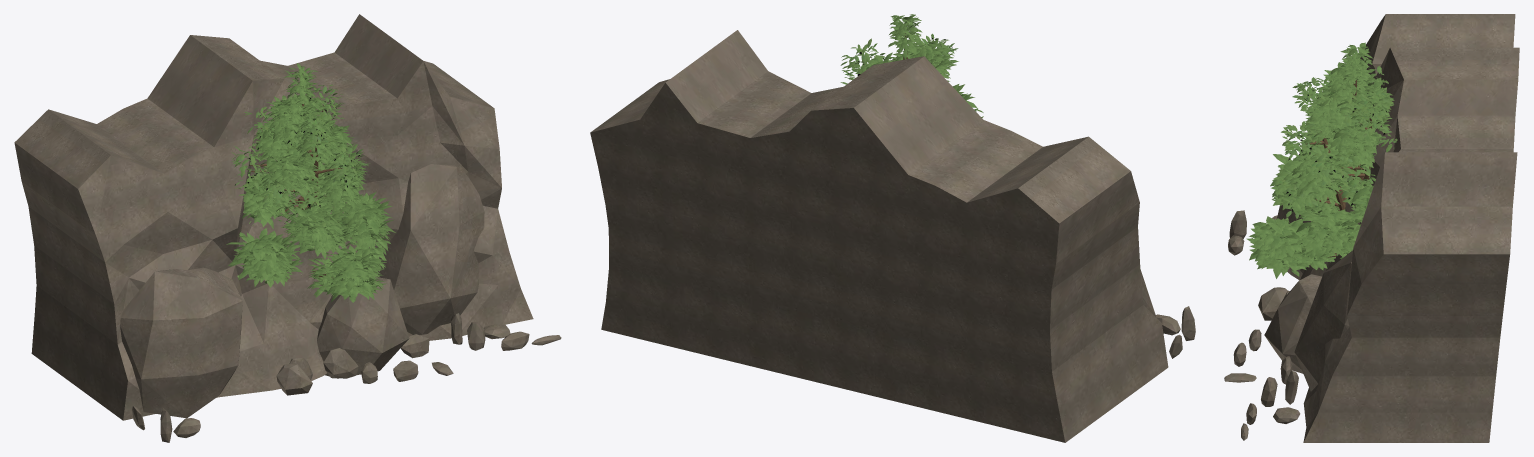
File: ecology-r5.glb
The picture shows the model from 3 angles, left to right: view 1: azimuth 30°, elevation 25°; view 2: azimuth 150°, elevation 25°; view 3: azimuth 270°, elevation 25°; orthographic projection. The views are drawn at different scales.
Parts seen in each view (by area): view 1: cliff-group-0-lod0, tree-1-1-lod0, tree-1-0-lod0, tree-0-1-lod0, tree-0-0-lod0; view 2: cliff-group-0-lod0, tree-1-1-lod0, tree-1-0-lod0, tree-0-1-lod0; view 3: cliff-group-0-lod0, tree-1-1-lod0, tree-1-0-lod0, tree-0-0-lod0, tree-0-1-lod0.
Boxes of the visible parts, x1,y1,x2,y2 form: cliff-group-0-lod0: (14,14,561,442); tree-1-1-lod0: (226,63,395,302); tree-1-0-lod0: (235,76,388,302); tree-0-1-lod0: (230,84,365,248); tree-0-0-lod0: (234,87,370,254); cliff-group-0-lod0: (590,30,1195,442); tree-1-1-lod0: (864,14,977,108); tree-1-0-lod0: (867,23,950,81); tree-0-1-lod0: (842,33,983,117); cliff-group-0-lod0: (1224,14,1519,442); tree-1-1-lod0: (1246,42,1394,272); tree-1-0-lod0: (1249,58,1393,278); tree-0-0-lod0: (1273,77,1394,225); tree-0-1-lod0: (1277,66,1397,222).
Size of what is drawn, in the model's own units: 24.03 by 16.06 by 14.23.
Materials: 9 (9 with a texture image).
